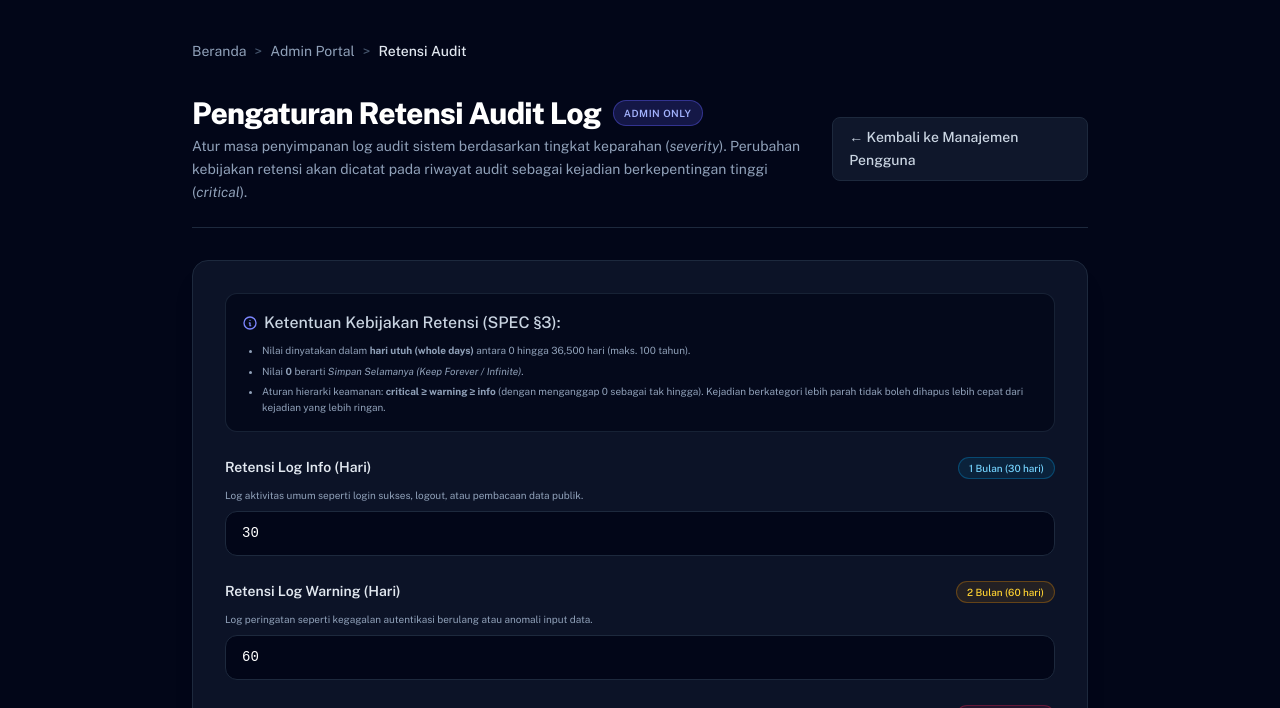
Test: AuditRetentionSettingsView Client-Side Validation & Error Handling (Non-Happy Path) › blocks submit and displays validation error when info > warning (0 = infinite)
This screenshot has width=1280, height=708.
Replace the text in the number field with id "retention-info" with "120" at (640, 534), box [225, 511, 1055, 556]
(page scrolled)
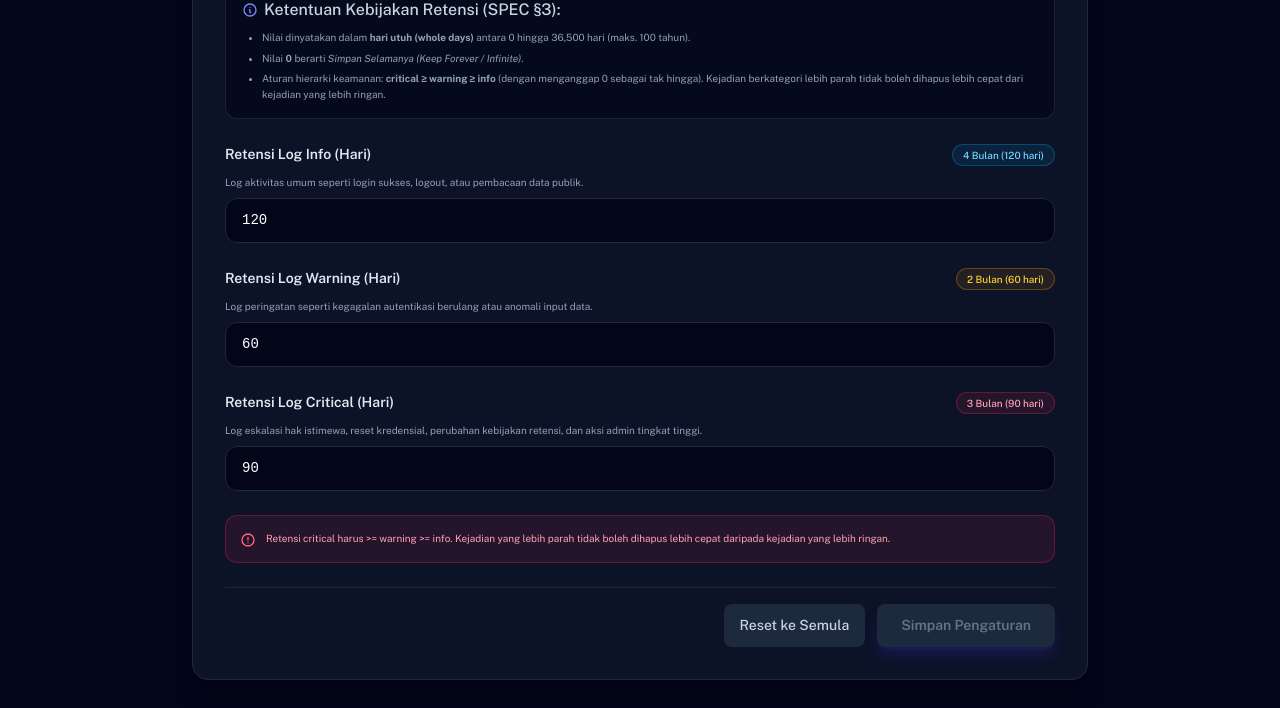
expect the submit button is disabled: met, box [877, 604, 1055, 647]
expect the message with test id "client-validation-error" is shown: met, box [225, 515, 1055, 563]
expect the message with test id "client-validation-error" shows "Retensi critical harus >= warning >= info": met, box [266, 532, 890, 544]
